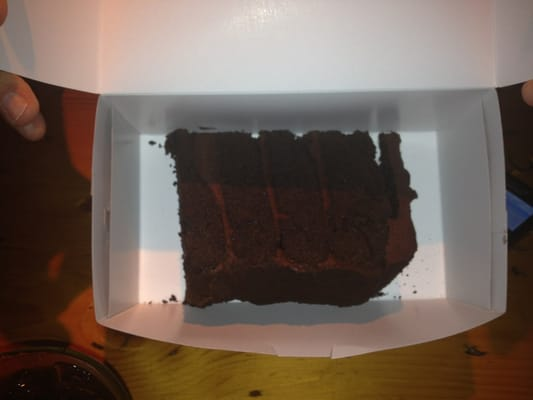sushi: (164, 128, 420, 310)
